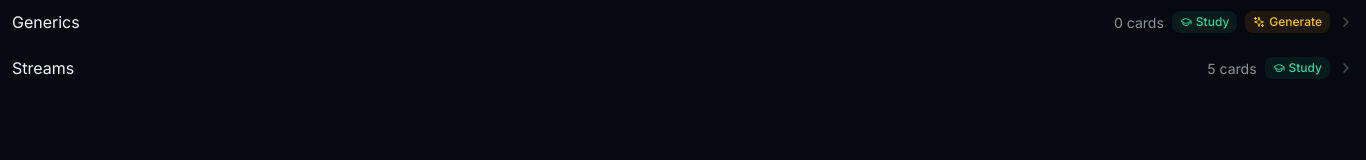
Test: TopicTree - Generate Cards › shows loading state while generating
Click the button "Generate" at coordinates (1288, 22), box [1245,11,1330,33]
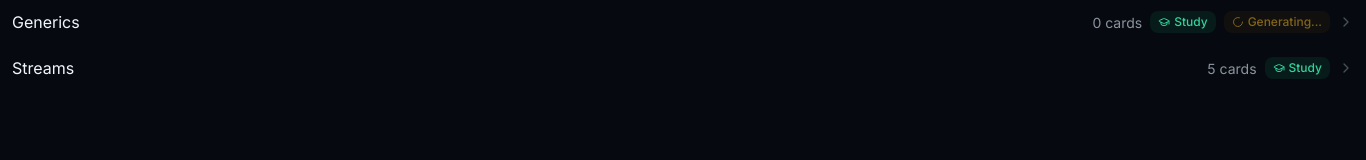
Expected: the button "Generating..." is shown, [1224,11,1330,33]
